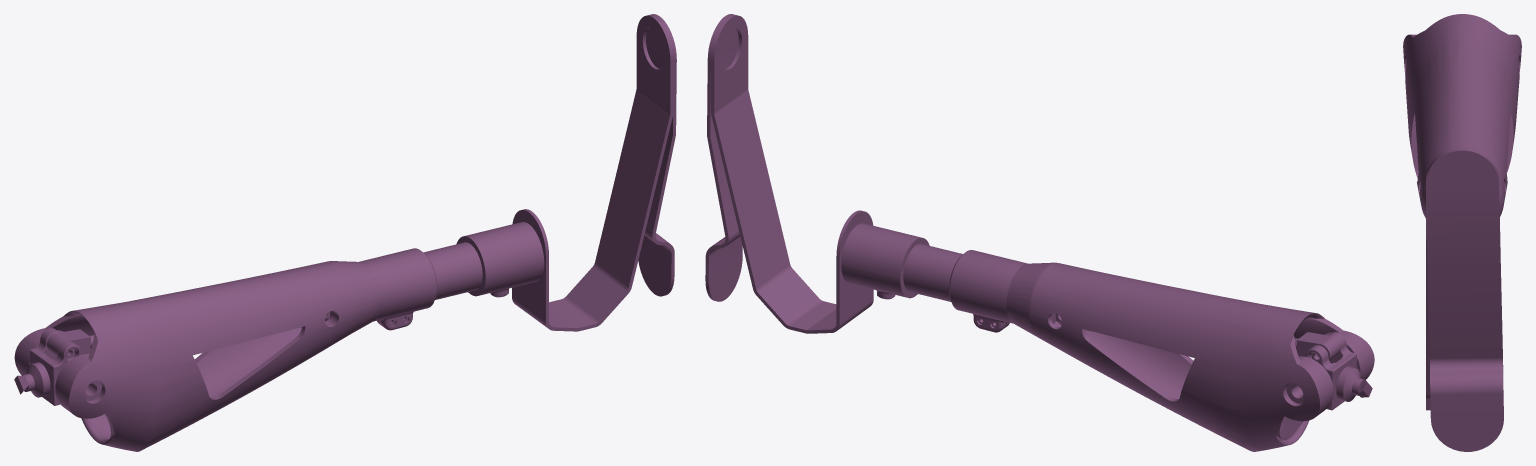
The model's file is advanced_prosthetic_leg_design.glb.
The picture shows the model from 3 angles, left to right: view 1: azimuth 30°, elevation 25°; view 2: azimuth 150°, elevation 25°; view 3: azimuth 270°, elevation 25°; orthographic projection. The views are drawn at different scales.
Visible parts, largest first — view 1: Geode; view 2: Geode; view 3: Geode.
Part boxes in pixels (x1,y1,x2,y2): Geode: (14,14,676,451); Geode: (705,14,1374,451); Geode: (1403,14,1521,451).
Bounding box in the file's own units: 601 × 271 × 89.21.
